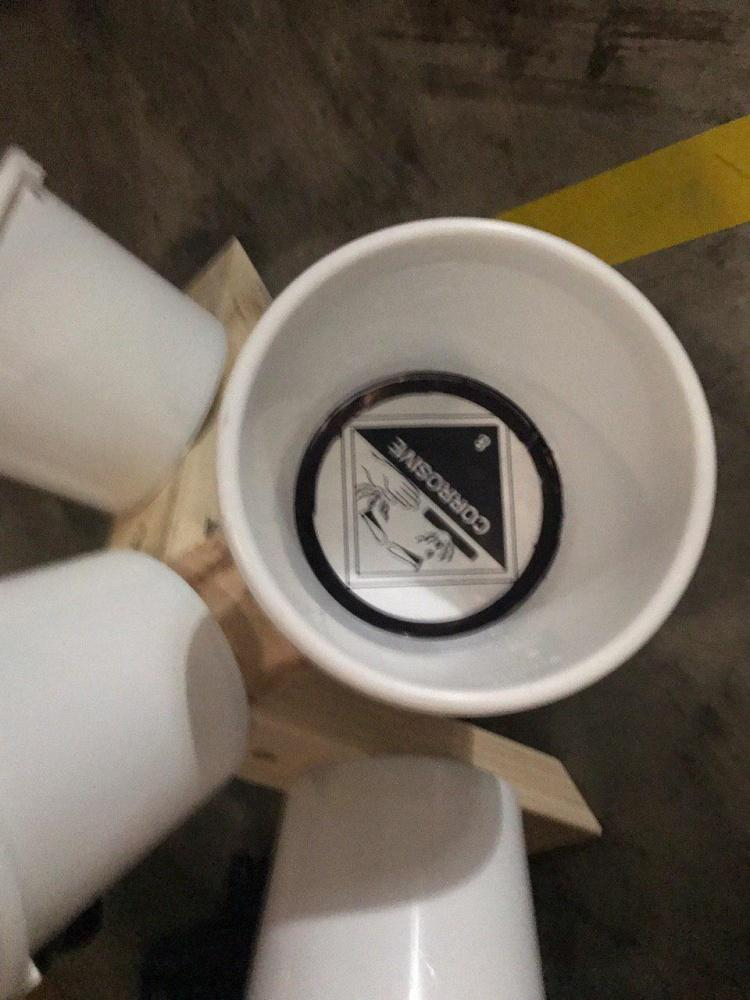corrosive: (344, 415, 515, 584)
